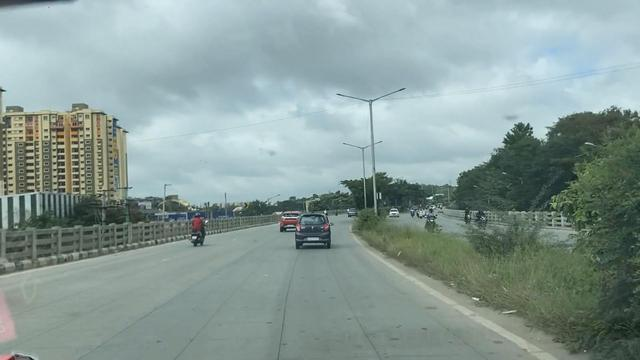LMV: (295, 215, 327, 243), (190, 215, 205, 244), (280, 212, 298, 232)
